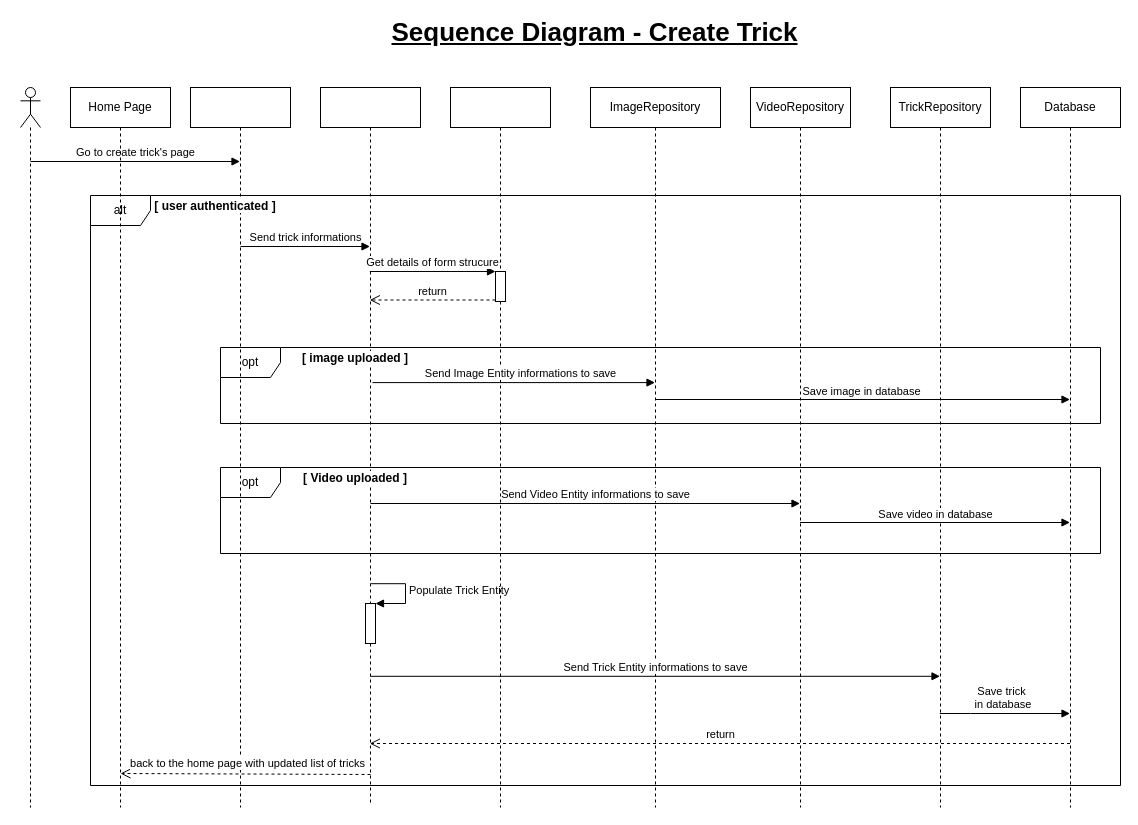
This 1138x825 diagram has some shape labels left out. Each missing label, with the box of its shape:
Front End Page create trick: (190, 86, 290, 808)
TrickController: (320, 86, 420, 806)
TrickType: (450, 86, 550, 808)
User: (20, 86, 40, 808)
